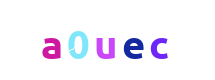0: (41, 0, 121, 80)
A: (12, 0, 92, 80)
C: (93, 0, 173, 80)
E: (85, 0, 165, 80)
U: (67, 0, 147, 80)
